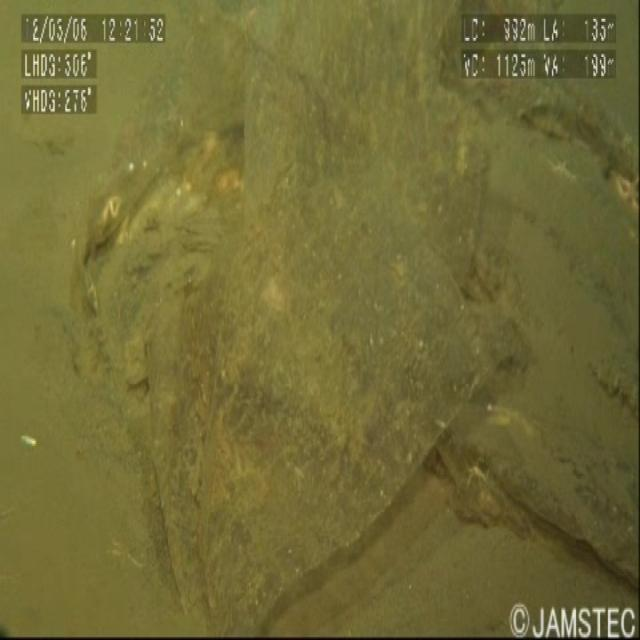Natual-Debris: (89, 139, 252, 246), (613, 128, 640, 204)
Rope: (70, 3, 640, 640)
